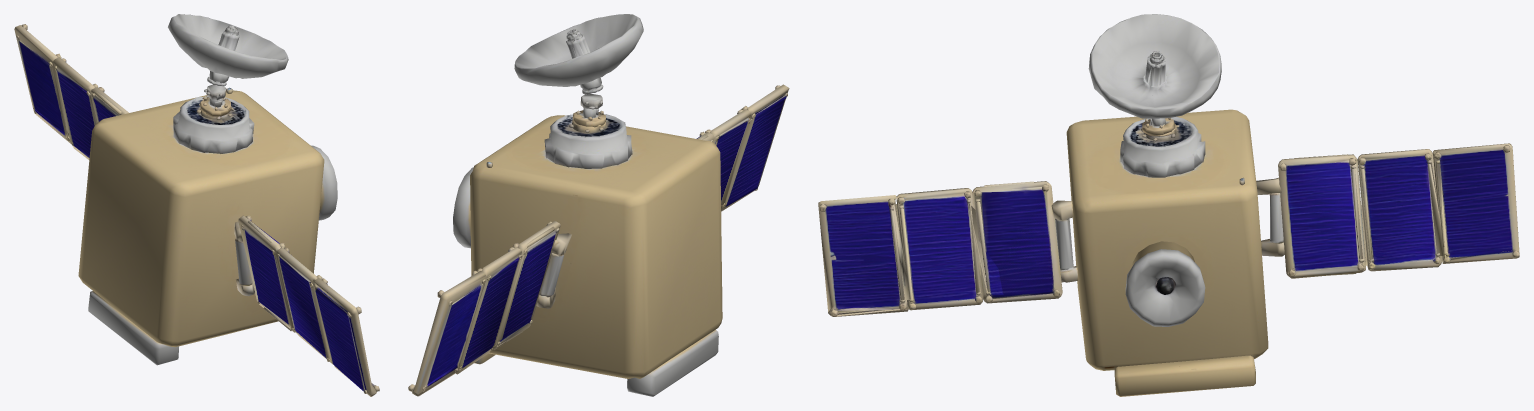
The model's file is r33-satellite.glb.
3 renders of one model, left to right at view 1: azimuth 30°, elevation 25°; view 2: azimuth 150°, elevation 25°; view 3: azimuth 270°, elevation 25°, orthographic. The views are drawn at different scales.
Visible parts, largest first — view 1: tripo_node_3d3cdc1b-c509-45e8-8d70-e58d835f603b; view 2: tripo_node_3d3cdc1b-c509-45e8-8d70-e58d835f603b; view 3: tripo_node_3d3cdc1b-c509-45e8-8d70-e58d835f603b.
Boxes of the visible parts, <box> form: tripo_node_3d3cdc1b-c509-45e8-8d70-e58d835f603b: <box>14,14,379,396</box>; tripo_node_3d3cdc1b-c509-45e8-8d70-e58d835f603b: <box>408,14,789,396</box>; tripo_node_3d3cdc1b-c509-45e8-8d70-e58d835f603b: <box>818,14,1519,396</box>.
Bounding box in the file's own units: 0.3535 × 0.5098 × 0.998.
Materials: 1 (1 with a texture image).
